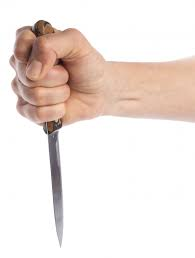knife: (29, 16, 77, 249)
